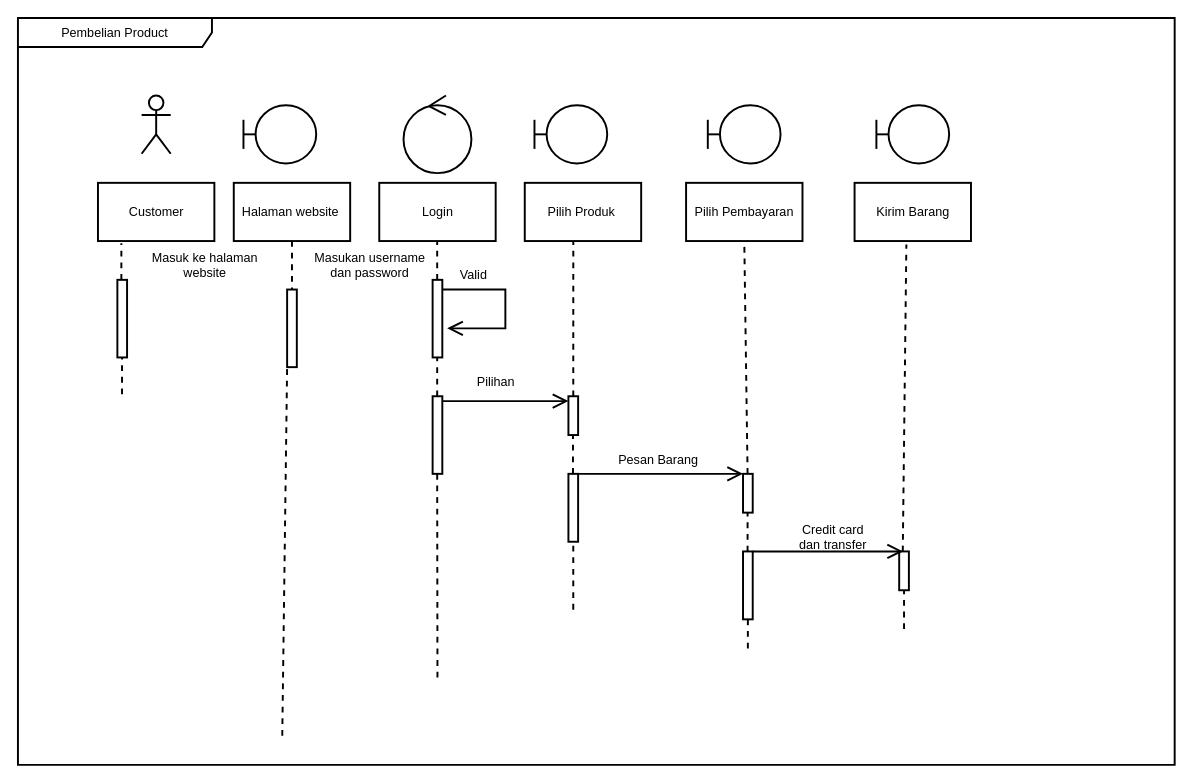
Some shapes in this 1192 by 782 pixel diagram are drawn without their labels. Here are the shapes that lost their labels. From the top down, the box of each, then its label:
(140, 94, 171, 154): Actor
(402, 94, 472, 174): proses
